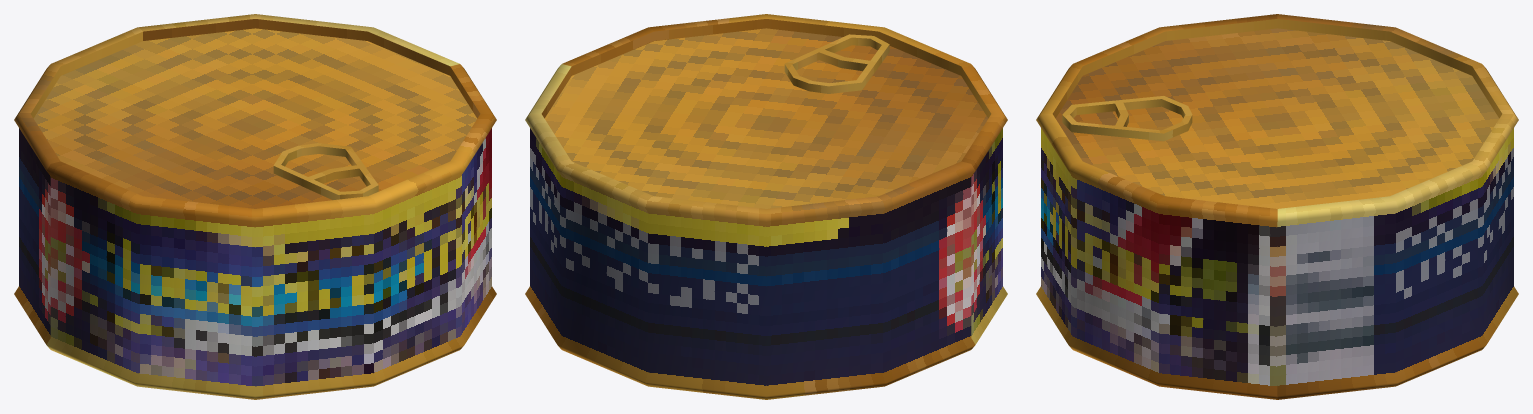
Rendered from can_fish.obj.
The picture shows the model from 3 angles, left to right: view 1: azimuth 30°, elevation 25°; view 2: azimuth 150°, elevation 25°; view 3: azimuth 270°, elevation 25°; orthographic projection.
Parts seen in each view (by area): view 1: can_fish; view 2: can_fish; view 3: can_fish.
Part boxes in pixels (left/top/right/bottom): can_fish: left=14, top=14, right=496, bottom=399; can_fish: left=525, top=14, right=1007, bottom=399; can_fish: left=1036, top=14, right=1518, bottom=399.
Bounding box in the file's own units: 0.4934 × 0.2099 × 0.4934.
